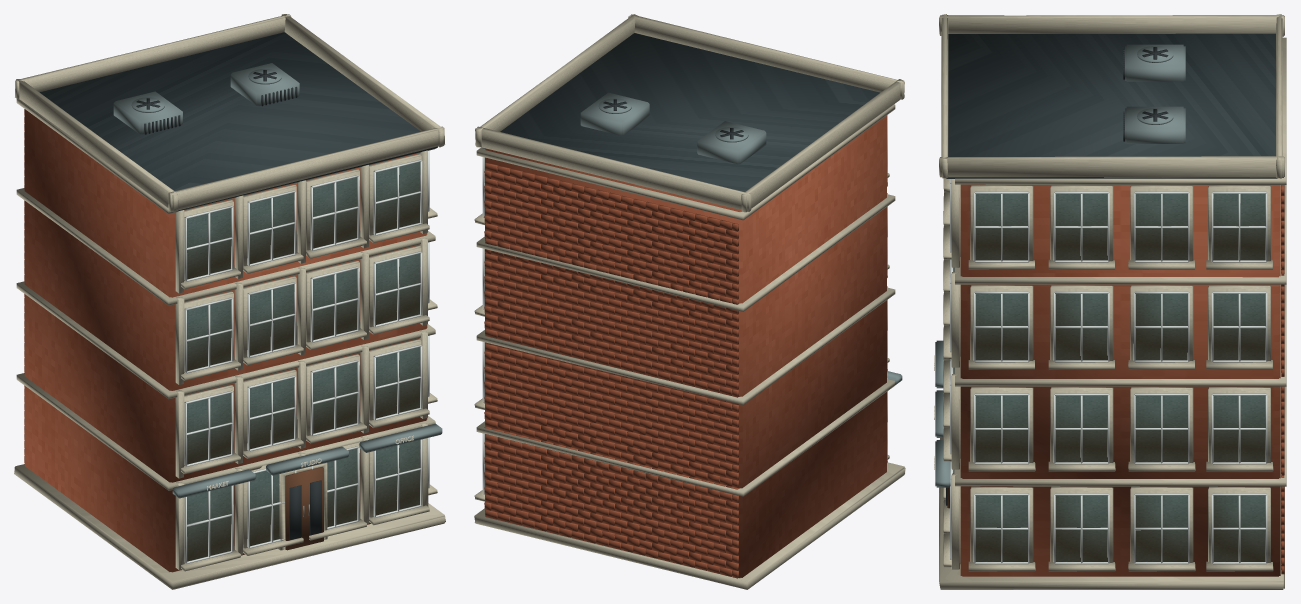
3 renders of one model, left to right at view 1: azimuth 30°, elevation 25°; view 2: azimuth 150°, elevation 25°; view 3: azimuth 270°, elevation 25°, orthographic. The views are drawn at different scales.
Parts seen in each view (by area): view 1: commercial__static_limestone, commercial__static_warm_brick, commercial__static_warm_glazing, commercial__static_slate, commercial__static_civic_pale_painted_trim, commercial__static_patinated_metal, commercial__door_01__recessed_entrance_leaf, commercial__door_01__door_inset_panel, commercial__door_01, commercial__static_recess_/_shadow_joints; view 2: commercial__static_warm_brick, commercial__static_limestone, commercial__static_slate, commercial__static_patinated_metal, commercial__static_civic_pale_painted_trim; view 3: commercial__static_limestone, commercial__static_warm_glazing, commercial__static_warm_brick, commercial__static_slate, commercial__static_civic_pale_painted_trim, commercial__static_patinated_metal.
Part boxes in pixels (x1=…): commercial__static_limestone: x1=14, y1=14, x2=445, y2=589; commercial__static_warm_brick: x1=24, y1=109, x2=427, y2=572; commercial__static_warm_glazing: x1=184, y1=162, x2=420, y2=561; commercial__static_slate: x1=40, y1=32, x2=437, y2=211; commercial__static_civic_pale_painted_trim: x1=184, y1=150, x2=429, y2=563; commercial__static_patinated_metal: x1=113, y1=63, x2=442, y2=498; commercial__door_01__recessed_entrance_leaf: x1=285, y1=467, x2=323, y2=550; commercial__door_01__door_inset_panel: x1=289, y1=485, x2=301, y2=539; commercial__door_01: x1=308, y1=480, x2=321, y2=534; commercial__static_recess_/_shadow_joints: x1=144, y1=87, x2=297, y2=134; commercial__static_warm_brick: x1=484, y1=115, x2=886, y2=578; commercial__static_limestone: x1=474, y1=14, x2=905, y2=589; commercial__static_slate: x1=482, y1=33, x2=879, y2=191; commercial__static_patinated_metal: x1=580, y1=92, x2=902, y2=384; commercial__static_civic_pale_painted_trim: x1=482, y1=157, x2=484, y2=494; commercial__static_limestone: x1=939, y1=14, x2=1286, y2=589; commercial__static_warm_glazing: x1=953, y1=194, x2=1265, y2=561; commercial__static_warm_brick: x1=960, y1=184, x2=1284, y2=576; commercial__static_slate: x1=946, y1=33, x2=1277, y2=178; commercial__static_civic_pale_painted_trim: x1=950, y1=179, x2=1267, y2=564; commercial__static_patinated_metal: x1=935, y1=44, x2=1185, y2=487.
Size of the model in its own units: 8.14 by 11.02 by 8.14.
Materials: 9 (4 with a texture image).
